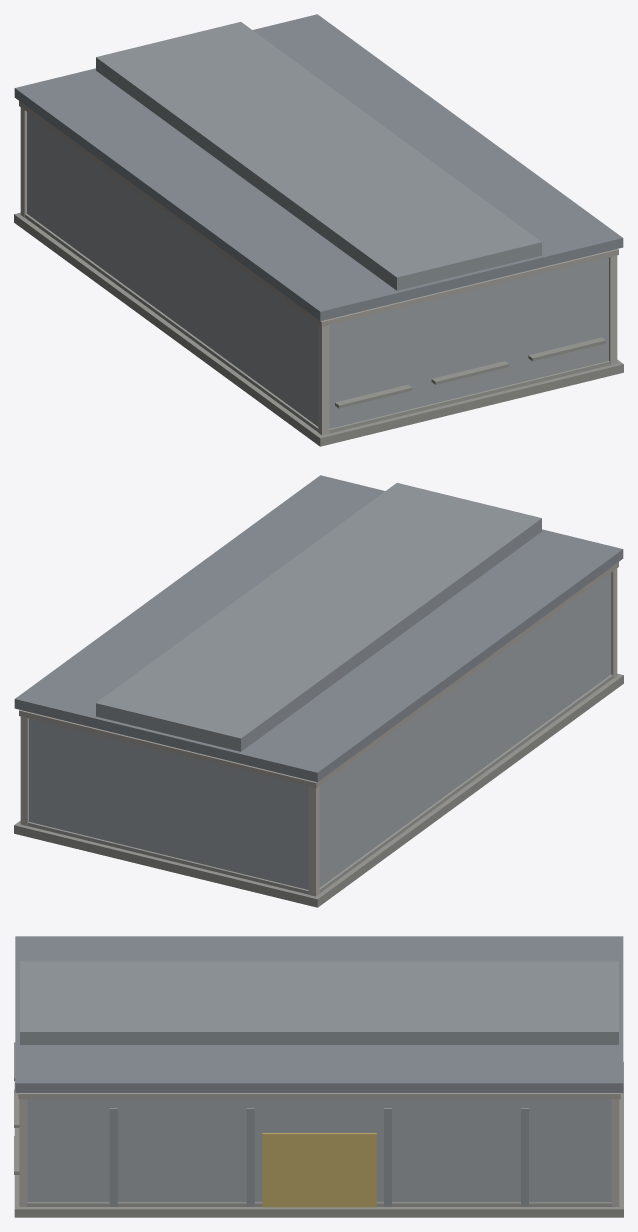
3 renders of one model, top to bottom at view 1: azimuth 30°, elevation 25°; view 2: azimuth 150°, elevation 25°; view 3: azimuth 270°, elevation 25°, orthographic.
Visible parts, largest first — view 1: Visual; view 2: Visual; view 3: Visual.
Boxes of the visible parts, x1=… form: Visual: x1=14, y1=14, x2=623, y2=446; Visual: x1=14, y1=475, x2=623, y2=907; Visual: x1=14, y1=936, x2=623, y2=1217.
Bounding box in the file's own units: 36.62 × 17.05 × 64.04.
